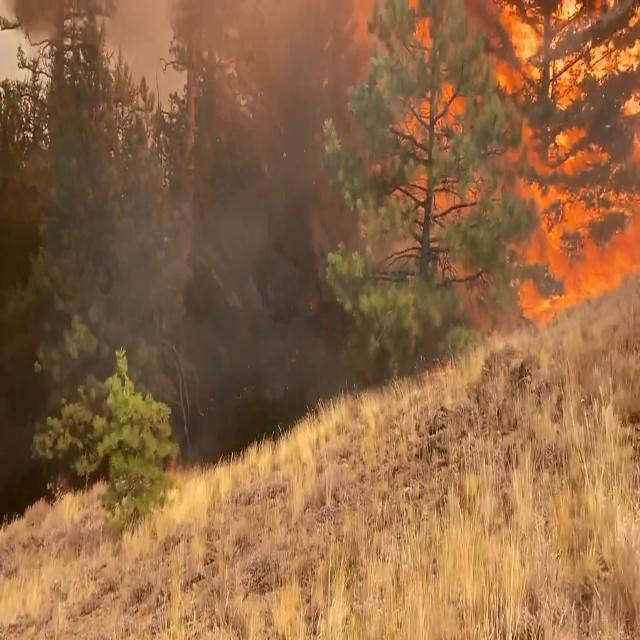Fire: (352, 0, 640, 329)
